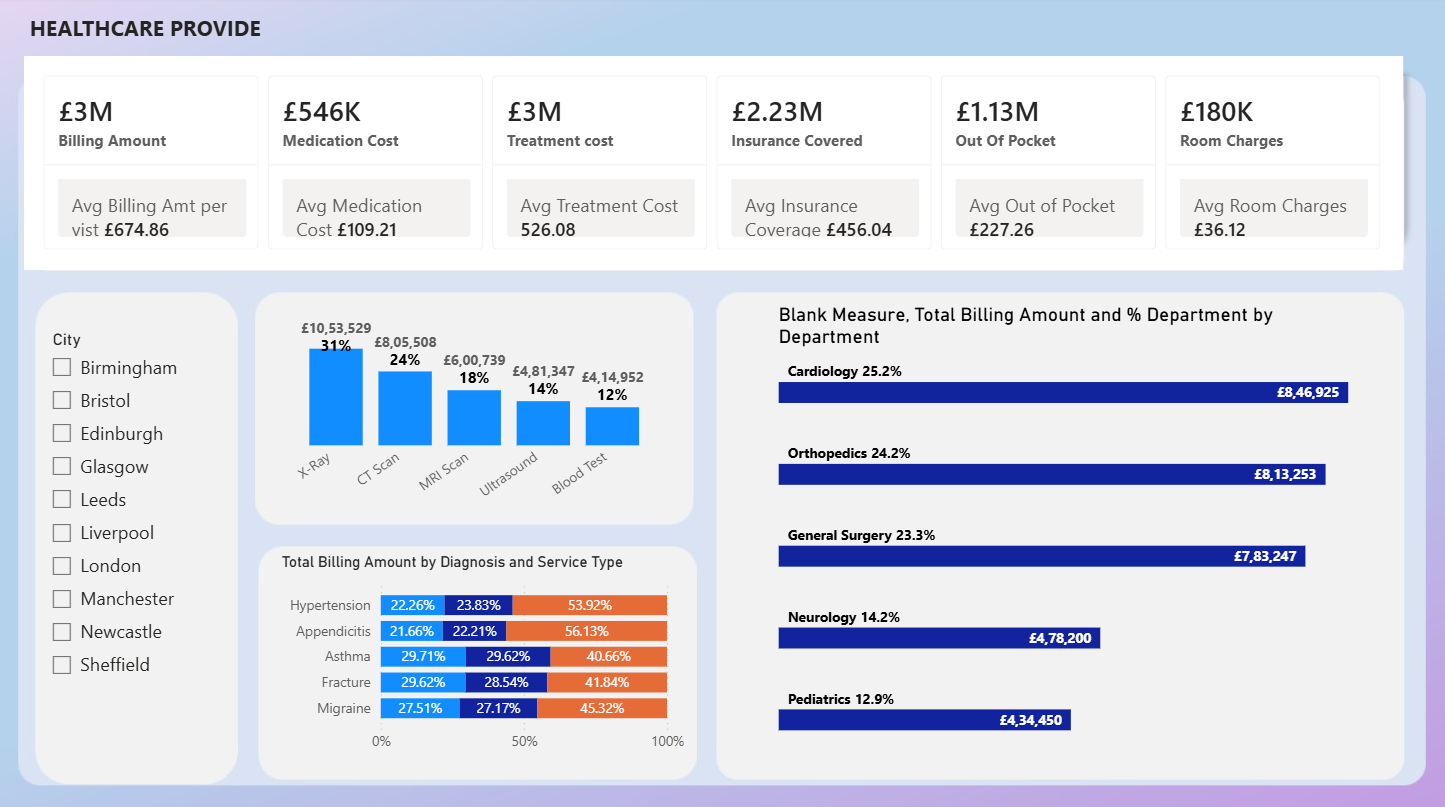

The dashboard page shown, as its layout file describes it:
{"tool":"powerbi","page":{"name":"Page 2","canvas":[1280,720],"ordinal":1},"visuals":[{"type":"cardVisual","fields":{"Data":["Dax calculations.Total Billing Amount","Dax calculations.Total Medication Cost","Dax calculations.Total Treatment cost","Dax calculations.Total Insurance Covered","Dax calculations.Out Of Pocket","Dax calculations.Total Room Charges"]},"box":[27.1,52.2,1211.1,187.9],"z":0},{"type":"slicer","fields":{"Values":["cities.City"]},"box":[39.7,287.1,170.2,339.3],"z":1000},{"type":"clusteredColumnChart","fields":{"Category":["procedures.Procedure"],"Y":["Dax calculations.Total Billing Amount"]},"box":[248.5,268.3,349.8,189],"z":2000},{"type":"hundredPercentStackedBarChart","fields":{"Category":["diagnoses.Diagnosis"],"Series":["visits.Service Type"],"Y":["Dax calculations.Total Billing Amount"]},"box":[248.5,488.6,363.3,183.8],"z":3000},{"type":"clusteredBarChart","fields":{"Category":["departments.Department"],"Y":["Dax calculations.Blank Measure","Dax calculations.Total Billing Amount","Dax calculations.% Department"]},"box":[684.9,268.3,535.6,400.9],"z":4000},{"type":"textbox","box":[27.1,9.4,269.4,35.5],"z":4001}]}

Visuals, with their boxes in screenshot pixels (x1, y1, x2, y2), scaled from the page's 1280x720 canvas onto the 1445x807 screenshot:
cardVisual - Dax calculations.Total Billing Amount x Dax calculations.Total Medication Cost: box(31, 59, 1398, 269)
slicer - cities.City: box(45, 322, 237, 702)
clusteredColumnChart - procedures.Procedure x Dax calculations.Total Billing Amount: box(281, 301, 675, 513)
hundredPercentStackedBarChart - diagnoses.Diagnosis x visits.Service Type: box(281, 548, 691, 754)
clusteredBarChart - departments.Department x Dax calculations.Blank Measure: box(773, 301, 1378, 750)
textbox: box(31, 11, 335, 50)
